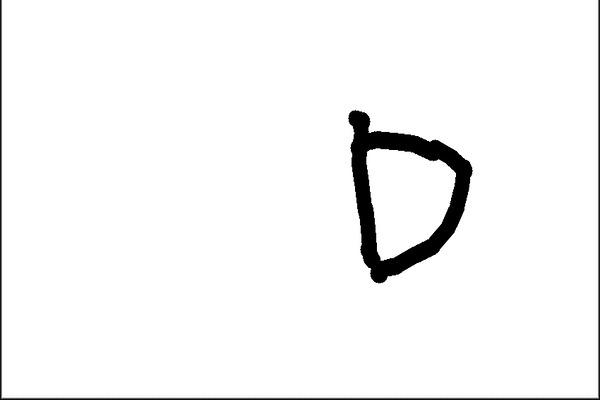D: (342, 103, 476, 286)
